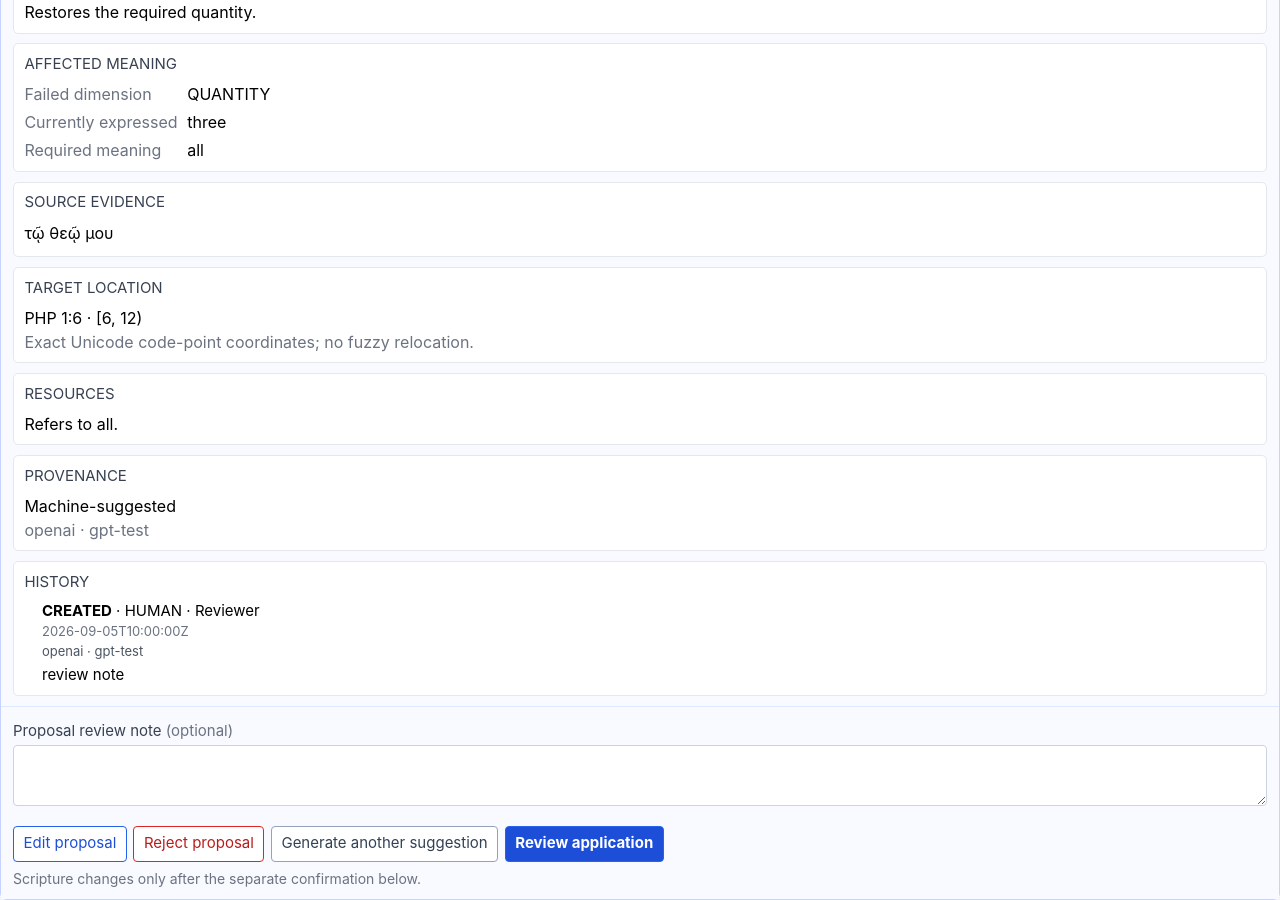
CorrectionReviewPanel › keeps a PHP 1:3 source correction grounded at its unambiguous PHP 1:6 target
(page scrolled)
Check: the text "τῷ θεῷ μου" is shown, box left=24, top=223, right=114, bottom=243
Step 1. Click the button "Review application" → (584, 844), box left=505, top=826, right=664, bottom=862
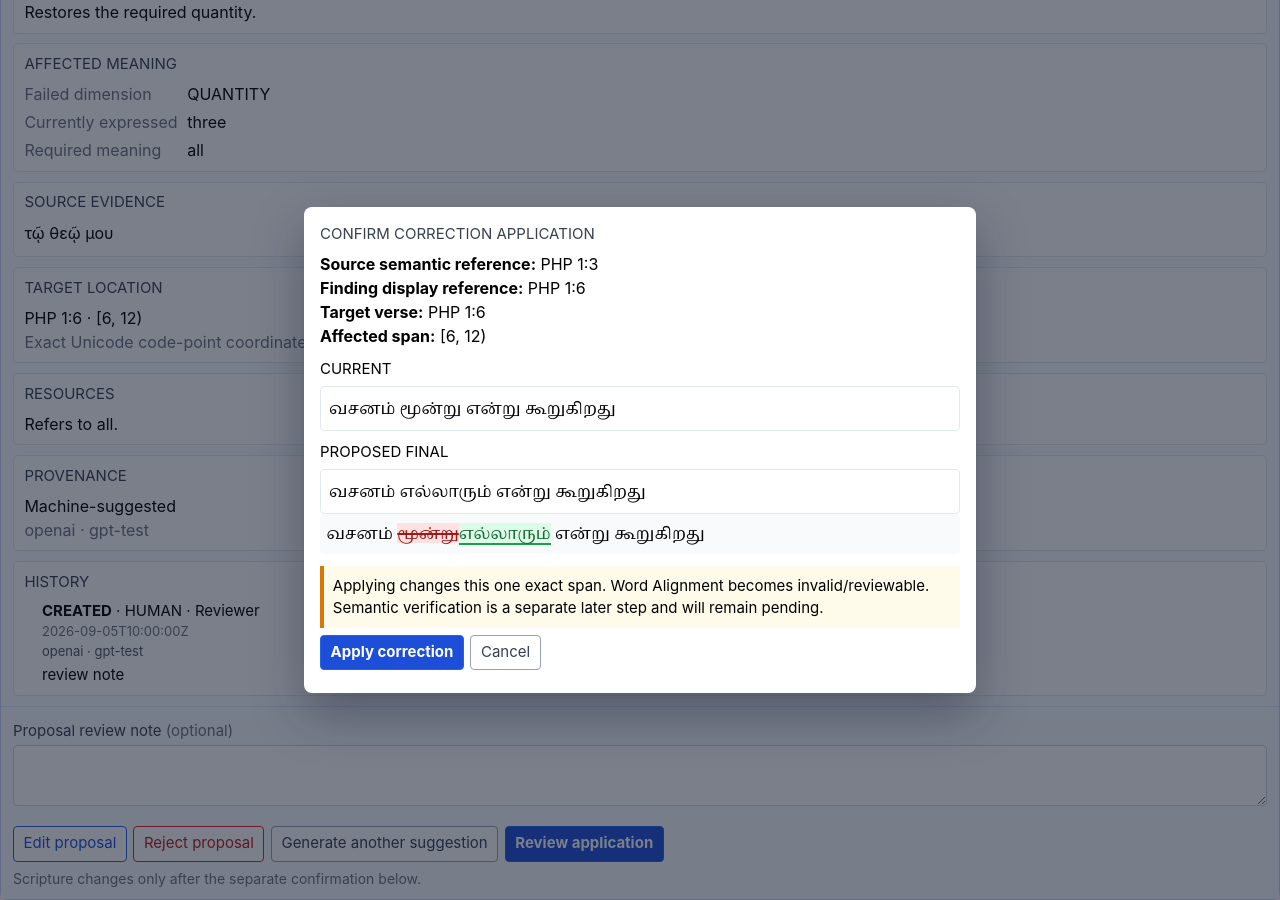
Check: the text "Source semantic reference:" shows "PHP 1:3", box left=540, top=254, right=598, bottom=274
Check: the text "Finding display reference:" shows "PHP 1:6", box left=528, top=278, right=586, bottom=298
Check: the text "Target verse:" shows "PHP 1:6", box left=428, top=302, right=486, bottom=322
